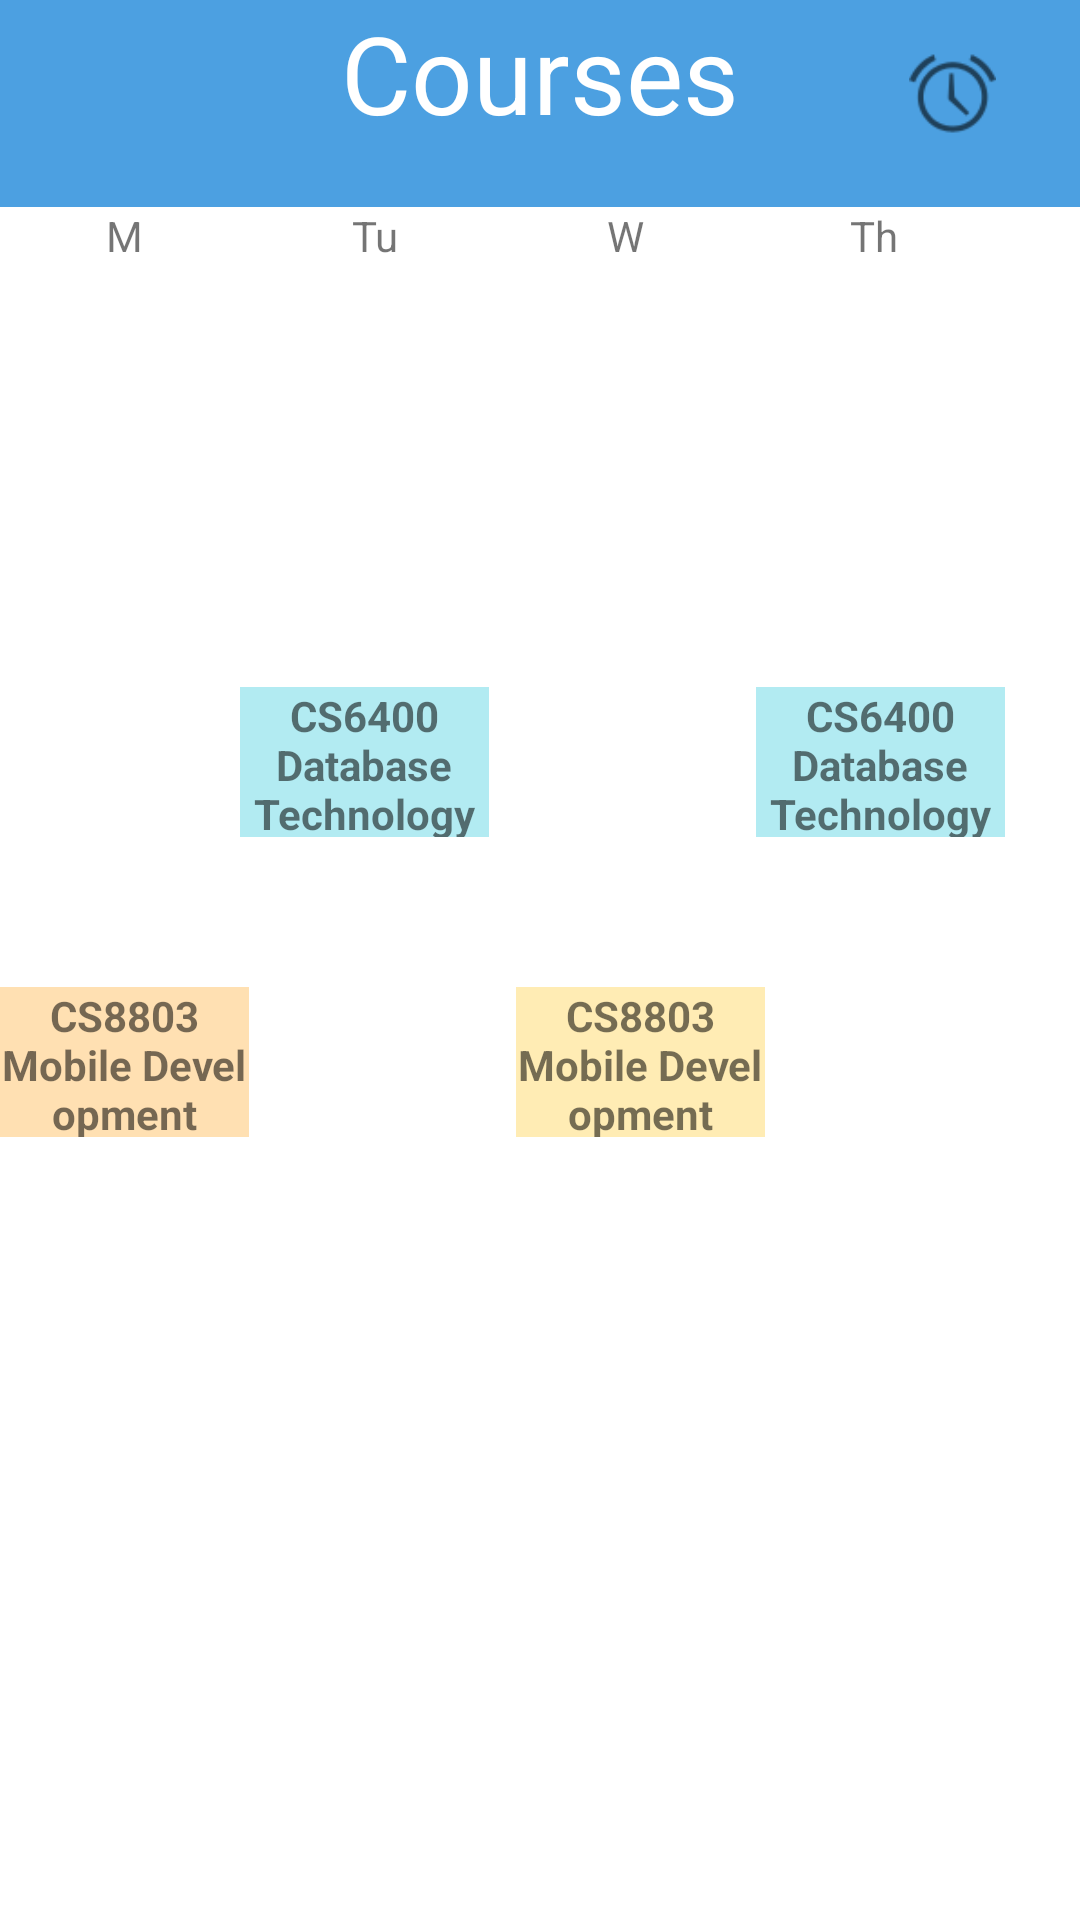

Where icons sit on this 1080w x 1920h app screen, as (x1, y1, x2, y2):
lock idle alarm: (909, 54, 996, 133)
